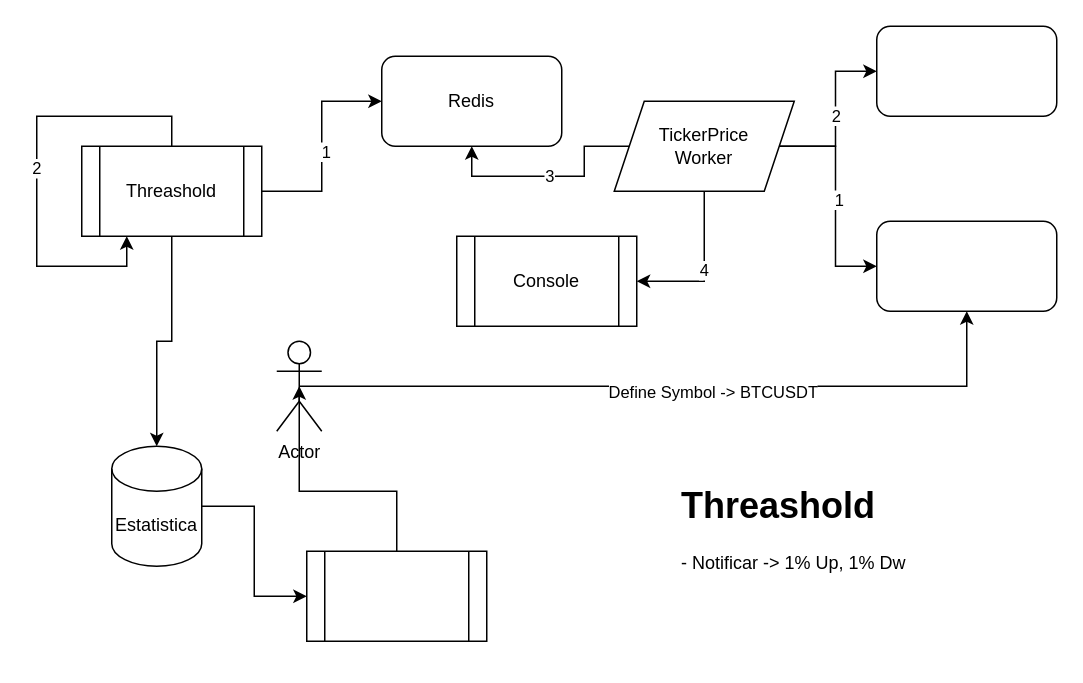
Image size: 1083x683. Some labels were removed from this diagram. Each missing label, with the box of its shape:
Binance: (875, 25, 1057, 116)
Buy or Sell: (305, 550, 487, 641)
SQL Server: (875, 220, 1057, 311)
